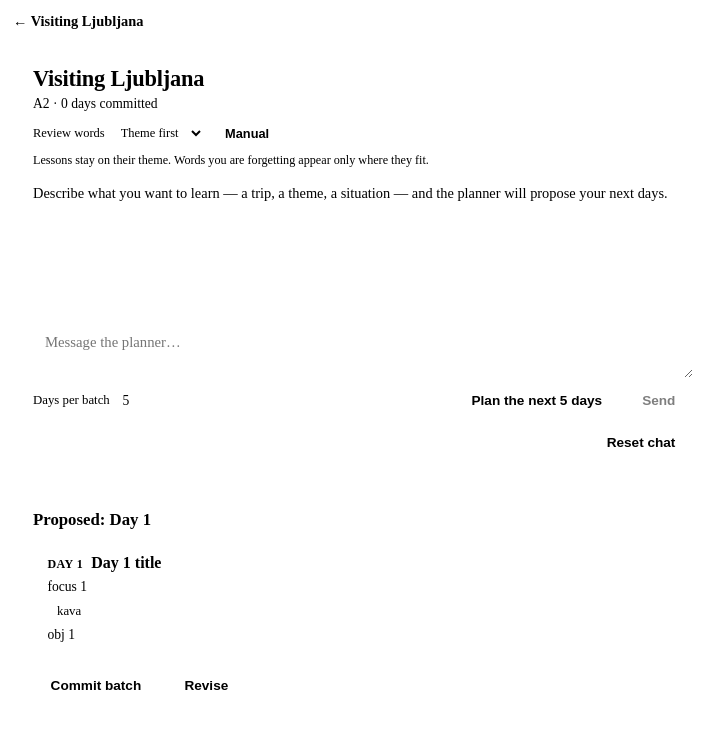
Test case: /c/[curriculumId]/plan page › commit failure surfaces the error, keeps the proposal, does not start pipeline
Click the button "Commit batch": (96, 685) left=33, top=670, right=159, bottom=701
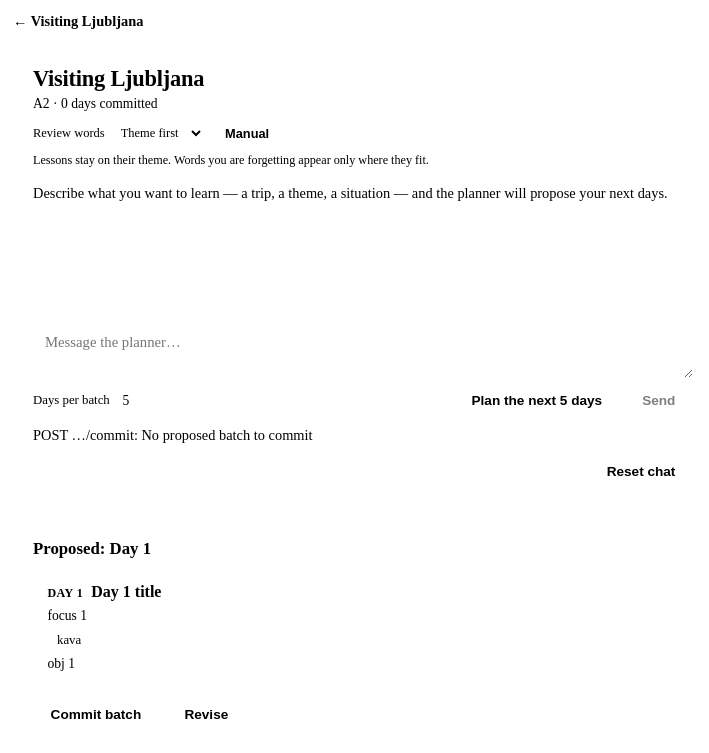
Expected: the heading "Proposed: Day 1" is shown, left=33, top=539, right=151, bottom=558
Result: the text "POST …/commit: No proposed batch to commit" is shown at left=33, top=427, right=312, bottom=443
